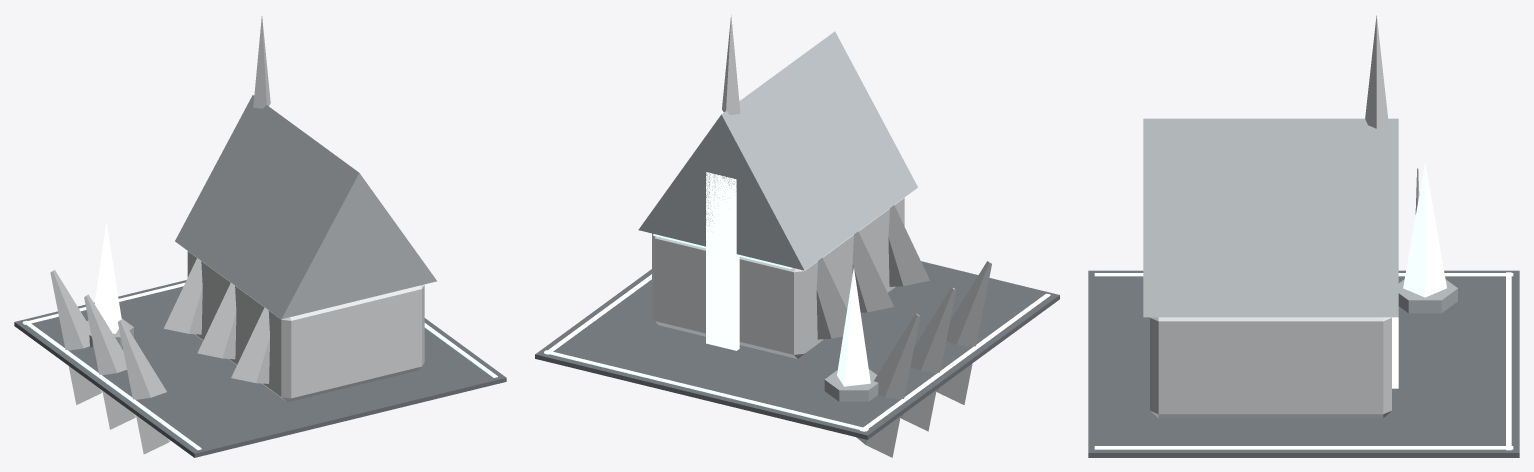
File: zone_low_5.glb
3 views of the same model, side by side, from view 1: azimuth 30°, elevation 25°; view 2: azimuth 150°, elevation 25°; view 3: azimuth 270°, elevation 25° (orthographic). The views are drawn at different scales.
Visible parts, largest first — view 1: zone_low_5, detail; view 2: zone_low_5, detail; view 3: zone_low_5, detail.
Part boxes in pixels (x1,y1,x2,y2): zone_low_5: (14, 16, 506, 457); detail: (22, 283, 497, 450); zone_low_5: (535, 15, 1059, 457); detail: (544, 234, 1050, 431); zone_low_5: (1088, 15, 1519, 457); detail: (1094, 272, 1513, 450).
Bounding box in the file's own units: 20.02 × 21.78 × 19.6.
